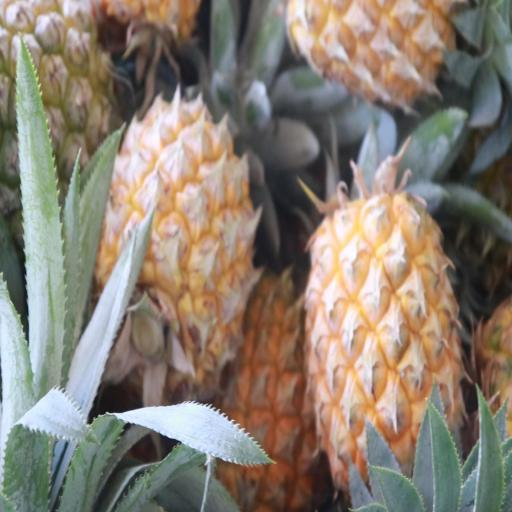Pineapple - v8 v1: (309, 194, 460, 502), (104, 96, 256, 386), (211, 276, 323, 512)
